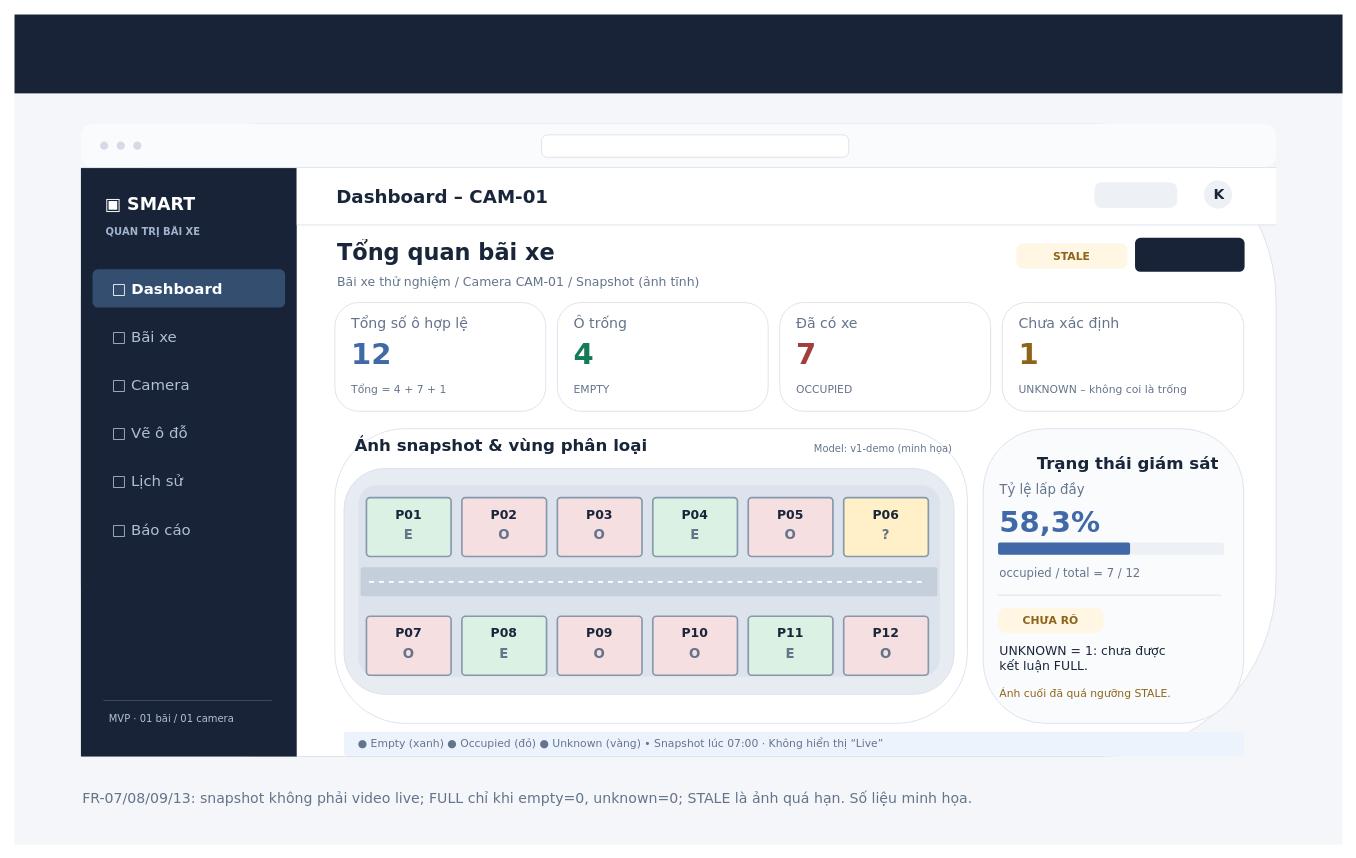
Image size: 1356x858. Some labels were removed from this diagram. Here are the shapes that lost their labels. From the top down, the box of each, then its label:
(541, 134, 849, 157): ai-smart-parking.local / dashboard
(1094, 182, 1177, 208): OPERATOR
(1135, 237, 1244, 271): Tải ảnh mới
